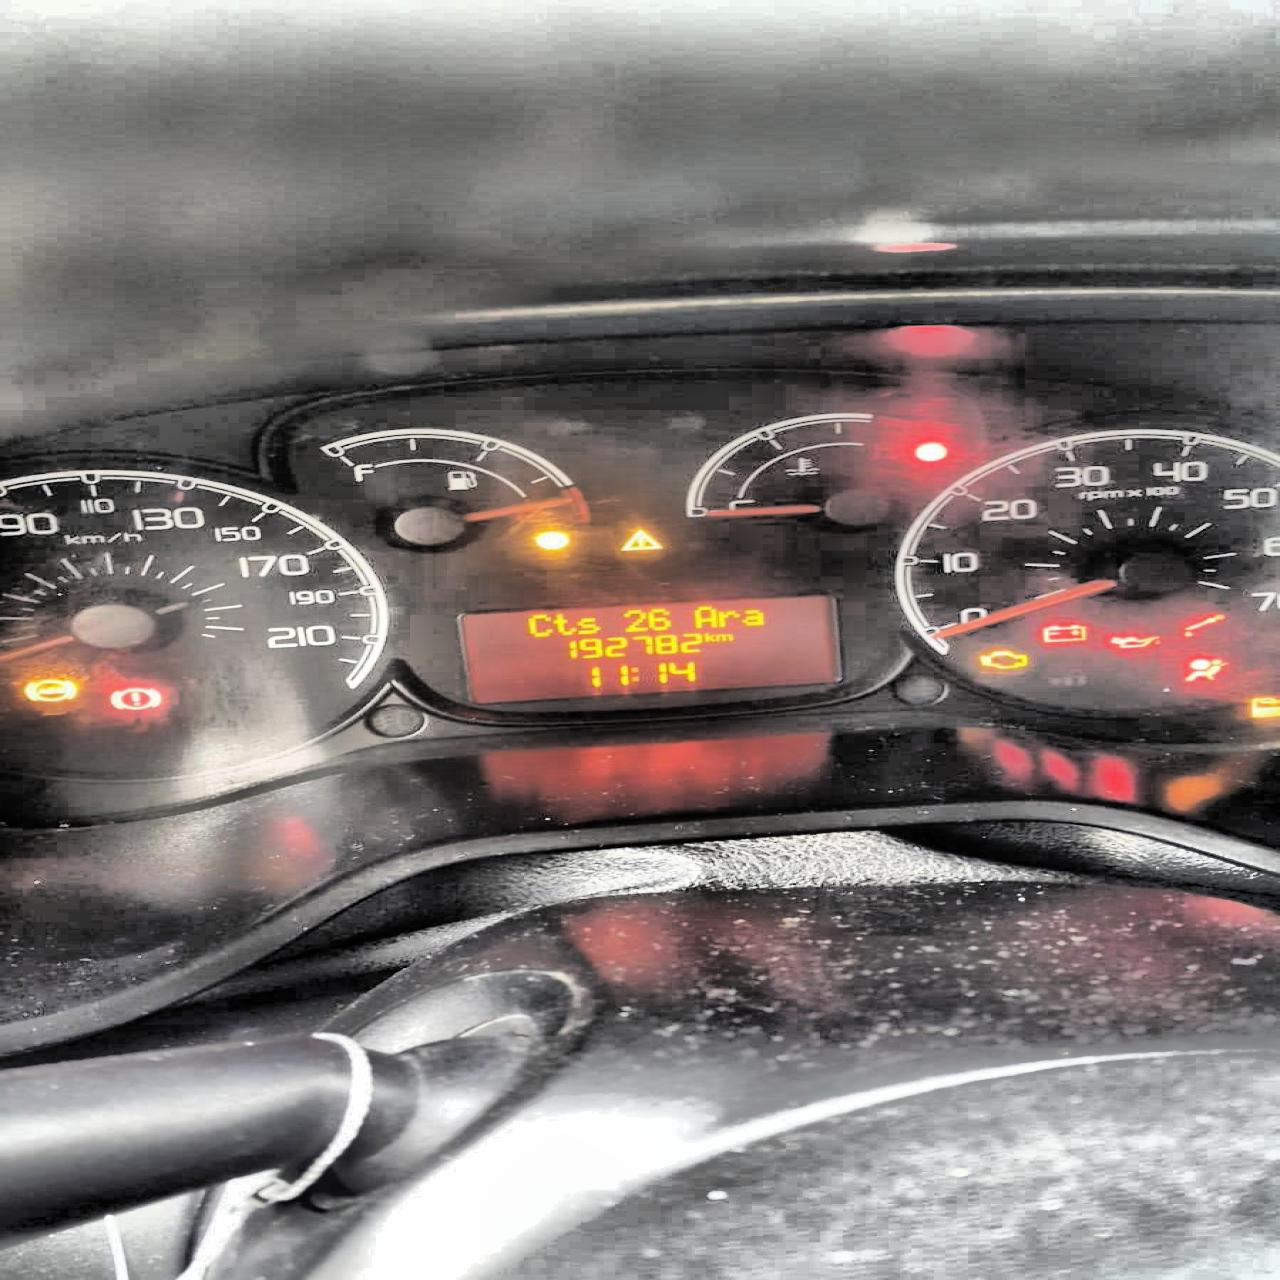1: (583, 663, 602, 688), (614, 662, 629, 688), (565, 638, 579, 660), (655, 660, 668, 683)
2: (621, 607, 648, 633), (679, 632, 702, 653), (602, 635, 626, 656)
4: (666, 660, 695, 682)
6: (649, 606, 674, 631)
7: (631, 634, 654, 654)
8: (655, 633, 679, 655)
9: (577, 636, 600, 658)
X: (526, 612, 552, 638), (552, 612, 577, 634), (693, 605, 717, 627), (577, 615, 600, 634), (716, 608, 741, 626), (741, 607, 763, 626), (629, 666, 641, 683), (703, 632, 716, 642), (715, 633, 731, 641)
odometer: (455, 591, 851, 704)
